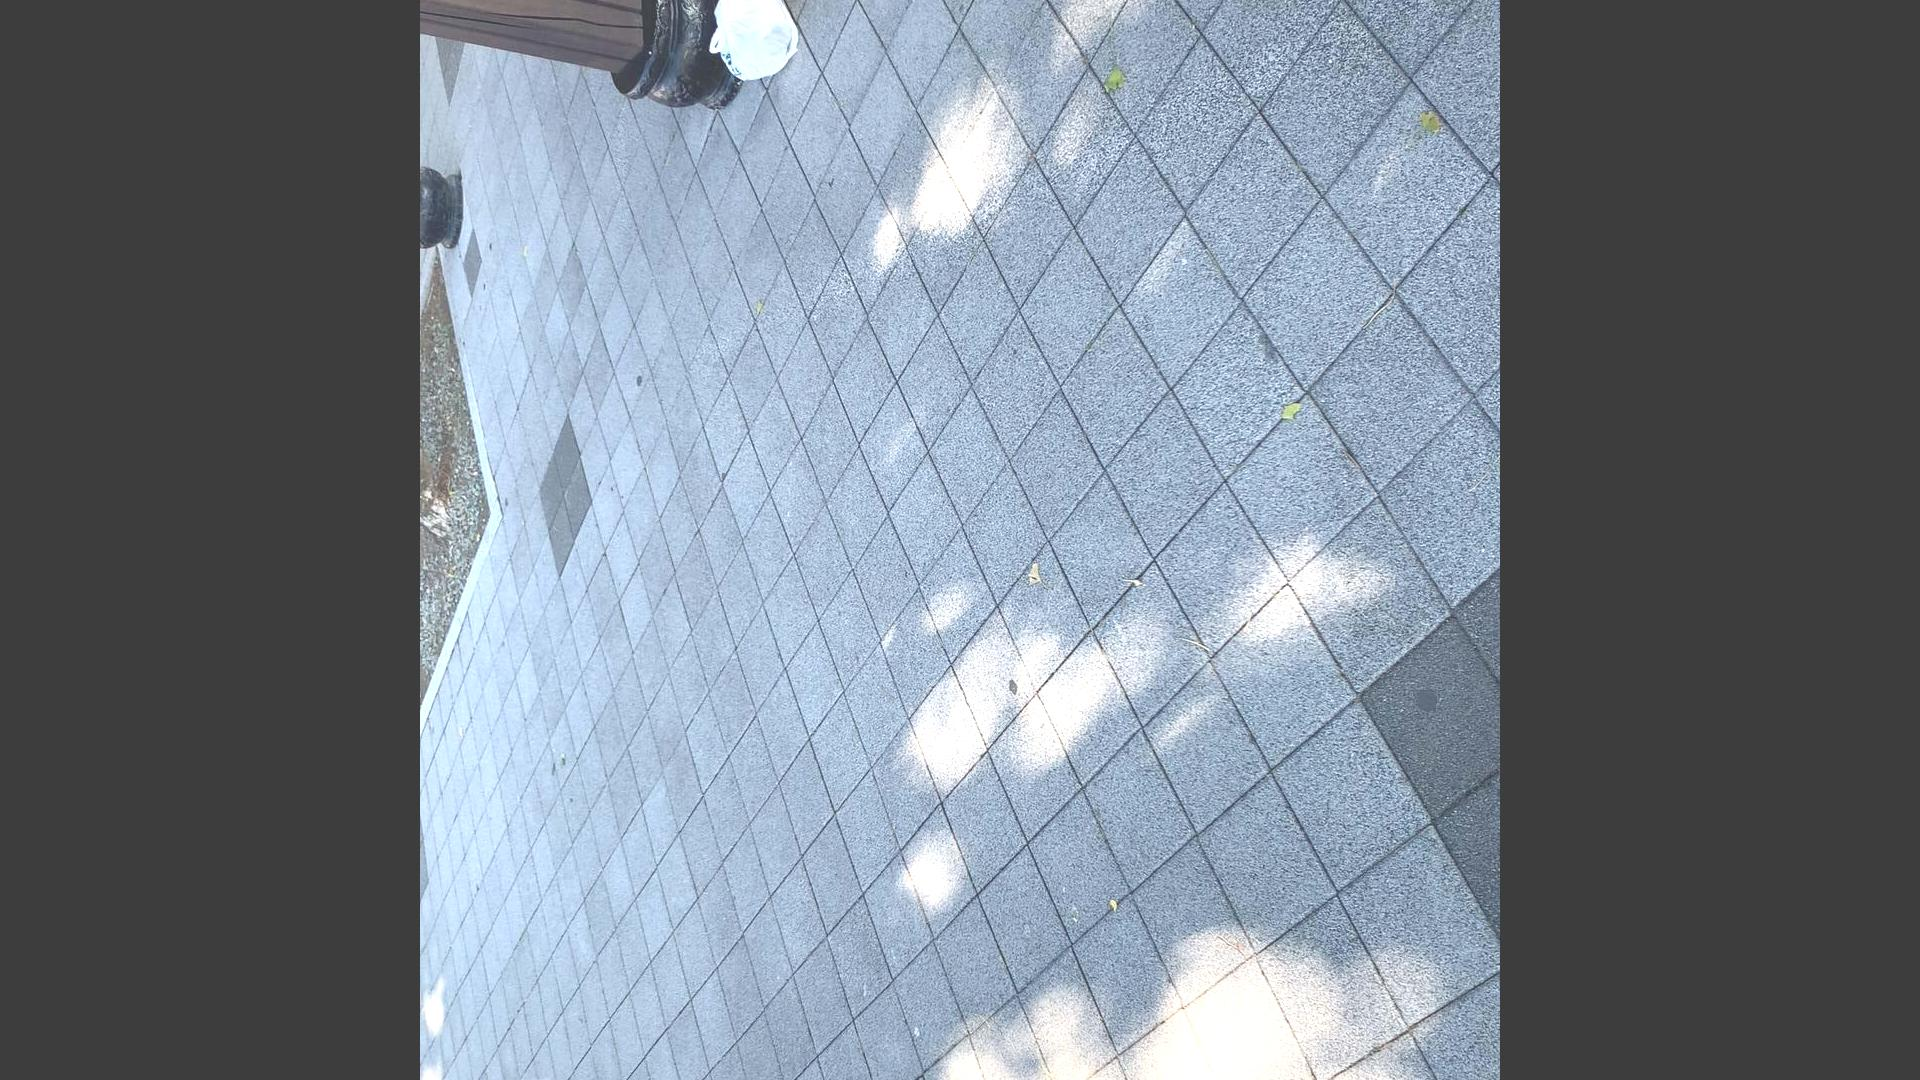white_bag: (698, 0, 804, 95)
